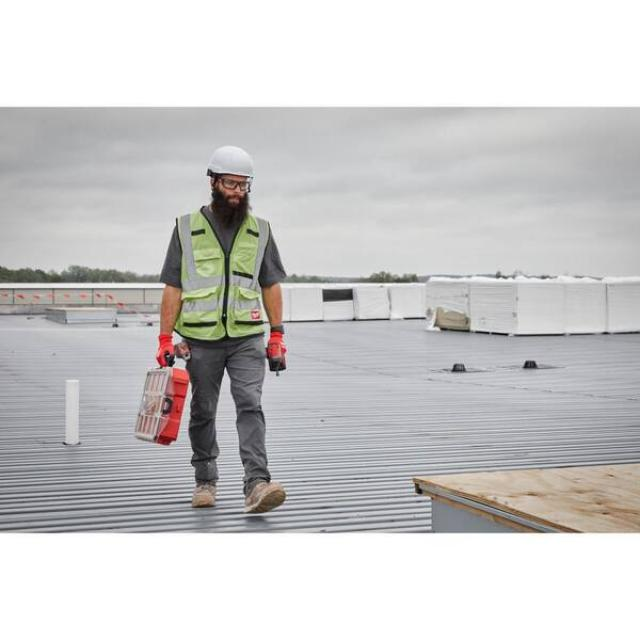goggles: (201, 170, 260, 202)
helmet: (193, 138, 266, 188)
vest: (170, 210, 276, 354)
